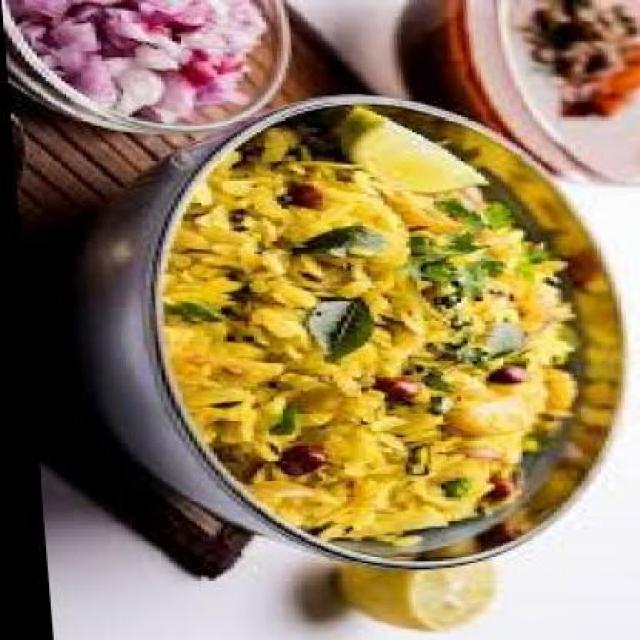poha: (143, 110, 583, 544)
